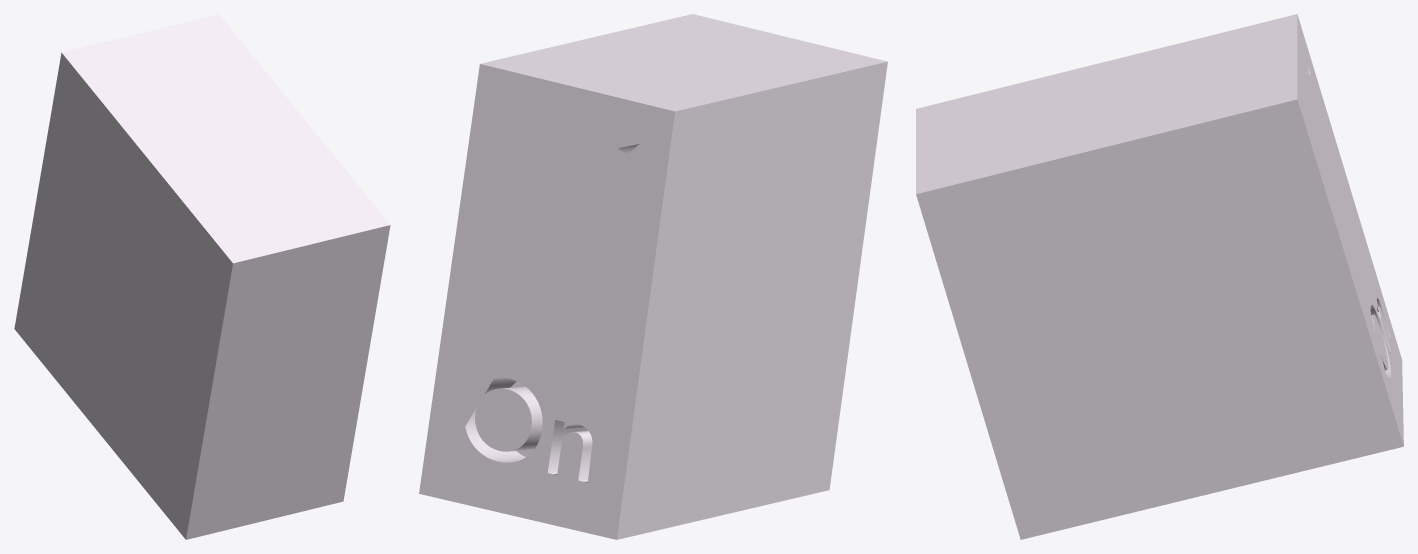
Rendered from Power.obj.
The picture shows the model from 3 angles, left to right: view 1: azimuth 30°, elevation 25°; view 2: azimuth 150°, elevation 25°; view 3: azimuth 270°, elevation 25°; orthographic projection. The views are drawn at different scales.
Visible parts, largest first — view 1: Cube.004; view 2: Cube.004; view 3: Cube.004.
Boxes of the visible parts, left/top/right/bottom form: Cube.004: left=14, top=14, right=390, bottom=539; Cube.004: left=419, top=14, right=887, bottom=539; Cube.004: left=916, top=14, right=1403, bottom=539.
Size of the model in its own units: 0.1647 by 0.3932 by 0.3947.
1 material, 1 textured.
